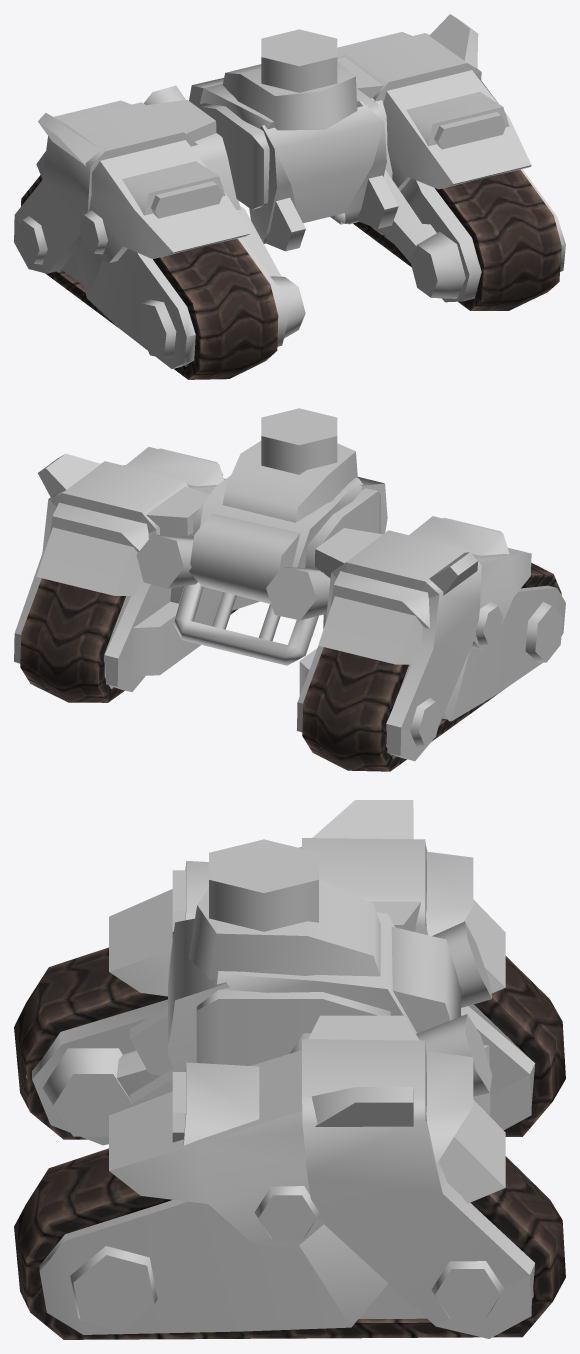
The model's file is Legs_Tracks_Lvl3.fbx.
3 renders of one model, top to bottom at view 1: azimuth 30°, elevation 25°; view 2: azimuth 150°, elevation 25°; view 3: azimuth 270°, elevation 25°, orthographic. The views are drawn at different scales.
Visible parts, largest first — view 1: Side_R_Geom, Pelvis_Geom, Side_L_Geom, Tracks_R_Geom, Tracks_L_Geom; view 2: Side_R_Geom, Pelvis_Geom, Side_L_Geom, Tracks_R_Geom, Tracks_L_Geom; view 3: Side_L_Geom, Pelvis_Geom, Side_R_Geom, Tracks_L_Geom, Tracks_R_Geom.
Boxes of the visible parts, box(x1,y1,x2,y2) form: Side_R_Geom: box(14, 100, 305, 368); Pelvis_Geom: box(144, 29, 398, 251); Side_L_Geom: box(330, 14, 565, 302); Tracks_R_Geom: box(21, 175, 278, 379); Tracks_L_Geom: box(353, 169, 561, 310); Side_R_Geom: box(297, 516, 565, 761); Pelvis_Geom: box(136, 408, 387, 665); Side_L_Geom: box(14, 447, 259, 691); Tracks_R_Geom: box(302, 563, 561, 771); Tracks_L_Geom: box(20, 578, 237, 702); Side_L_Geom: box(39, 1015, 535, 1338); Pelvis_Geom: box(130, 839, 492, 1106); Side_R_Geom: box(26, 800, 535, 1145); Tracks_L_Geom: box(14, 1148, 565, 1339); Tracks_R_Geom: box(14, 947, 565, 1139).
Bounding box in the file's own units: 404 × 226 × 315.
